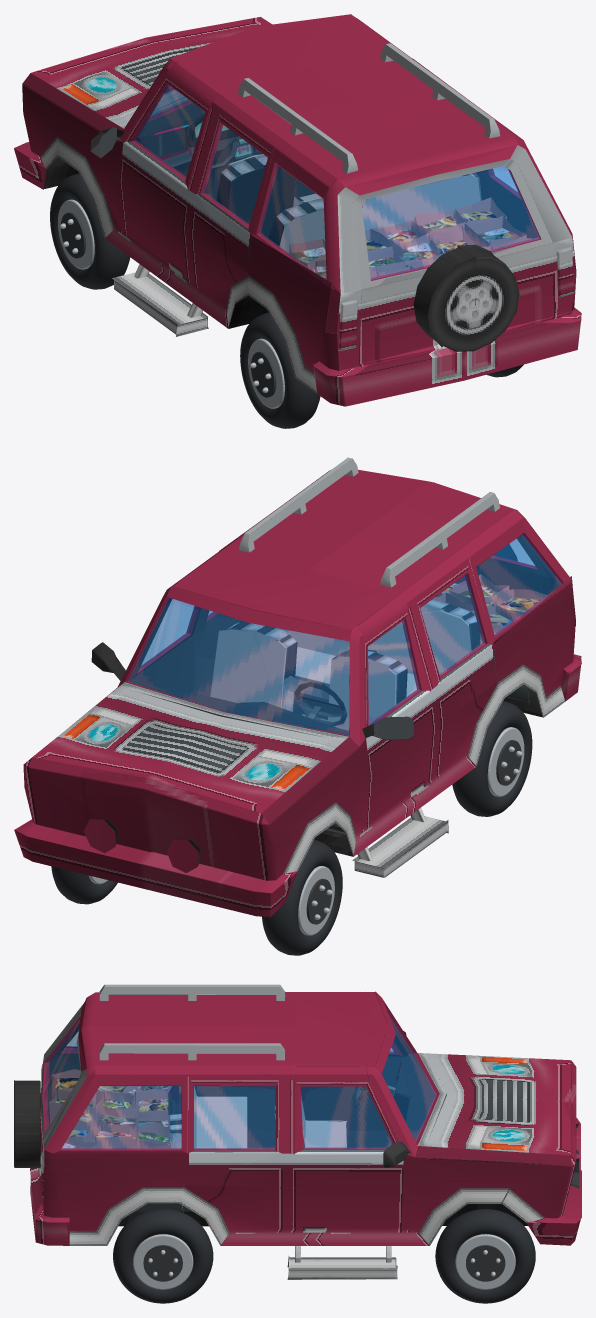
Rendered from car-marge_v.glb.
The picture shows the model from 3 angles, top to bottom: view 1: azimuth 30°, elevation 25°; view 2: azimuth 150°, elevation 25°; view 3: azimuth 270°, elevation 25°; orthographic projection. The views are drawn at different scales.
Parts seen in each view (by area): view 1: marge_vShape.010, marge_vShape.002, marge_vShape.003, marge_vShape.006, TrunkRotShape.022, marge_vShape.007, marge_vShape.011, marge_vShape.009, extrasShape.007, marge_vShape.008, HoodRotShape.021, DoorDRotShape.087 (+13 smaller); view 2: marge_vShape.005, marge_vShape.010, marge_vShape.011, marge_vShape.006, marge_vShape.003, HoodRotShape.021, marge_vShape.007, marge_vShape.008, DoorDRotShape.087, Rounded tire.129, Rounded tire.128, DoorDRotShape.090 (+13 smaller); view 3: marge_vShape.010, marge_vShape.003, marge_vShape.011, marge_vShape.006, marge_vShape.007, HoodRotShape.021, marge_vShape.004, DoorPRotShape.093, marge_vShape.008, extrasShape.007, marge_vShape.005, Rounded tire.130 (+14 smaller).
Part boxes in pixels (x1=…): marge_vShape.010: x1=177, y1=18, x2=517, y2=195; marge_vShape.002: x1=313, y1=145, x2=581, y2=406; marge_vShape.003: x1=22, y1=73, x2=576, y2=372; marge_vShape.006: x1=99, y1=97, x2=551, y2=263; TrunkRotShape.022: x1=362, y1=166, x2=539, y2=279; marge_vShape.007: x1=116, y1=14, x2=572, y2=293; marge_vShape.011: x1=148, y1=86, x2=519, y2=279; marge_vShape.009: x1=90, y1=127, x2=519, y2=351; extrasShape.007: x1=289, y1=197, x2=531, y2=279; marge_vShape.008: x1=40, y1=136, x2=317, y2=393; HoodRotShape.021: x1=47, y1=22, x2=260, y2=121; DoorDRotShape.087: x1=120, y1=141, x2=188, y2=277; marge_vShape.005: x1=14, y1=682, x2=348, y2=916; marge_vShape.010: x1=178, y1=457, x2=515, y2=625; marge_vShape.011: x1=128, y1=534, x2=561, y2=735; marge_vShape.006: x1=94, y1=535, x2=560, y2=865; marge_vShape.003: x1=72, y1=576, x2=575, y2=879; HoodRotShape.021: x1=48, y1=689, x2=332, y2=805; marge_vShape.007: x1=117, y1=470, x2=571, y2=746; marge_vShape.008: x1=283, y1=664, x2=565, y2=877; DoorDRotShape.087: x1=366, y1=690, x2=434, y2=824; Rounded tire.129: x1=262, y1=840, x2=342, y2=955; Rounded tire.128: x1=452, y1=701, x2=532, y2=816; DoorDRotShape.090: x1=368, y1=620, x2=419, y2=725; marge_vShape.010: x1=78, y1=984, x2=377, y2=1071; marge_vShape.003: x1=44, y1=1046, x2=571, y2=1232; marge_vShape.011: x1=62, y1=1016, x2=436, y2=1148; marge_vShape.006: x1=47, y1=1024, x2=579, y2=1212; marge_vShape.007: x1=40, y1=991, x2=439, y2=1156; HoodRotShape.021: x1=428, y1=1057, x2=562, y2=1149; marge_vShape.004: x1=184, y1=1150, x2=429, y2=1245; DoorPRotShape.093: x1=294, y1=1150, x2=403, y2=1228; marge_vShape.008: x1=69, y1=1137, x2=544, y2=1279; extrasShape.007: x1=49, y1=1069, x2=171, y2=1148; marge_vShape.005: x1=418, y1=1053, x2=581, y2=1245; Rounded tire.130: x1=435, y1=1209, x2=535, y2=1303.
Size of the model in its own units: 2.91 by 2.5 by 5.28.
16 materials, 13 textured.
